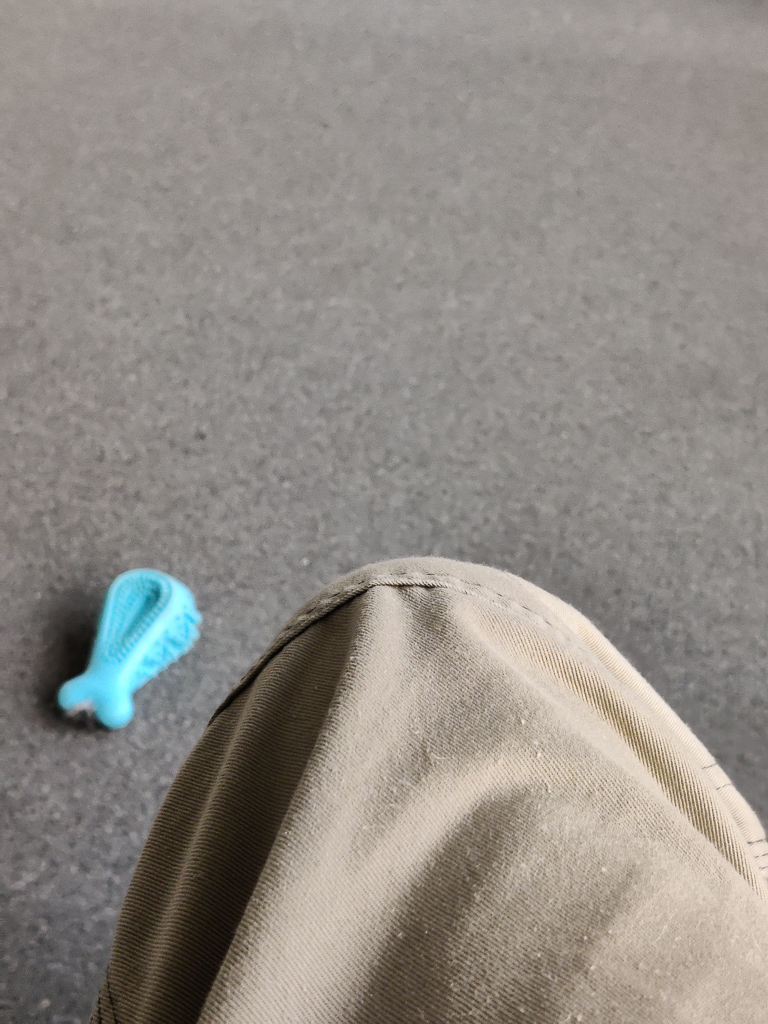Humanoid: (79, 547, 768, 1024)
